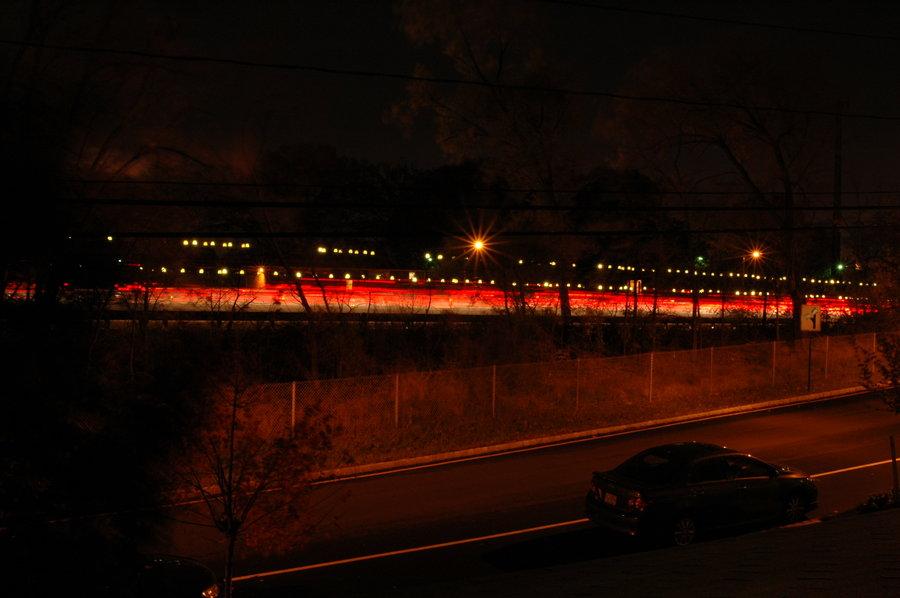car: (580, 431, 824, 547)
